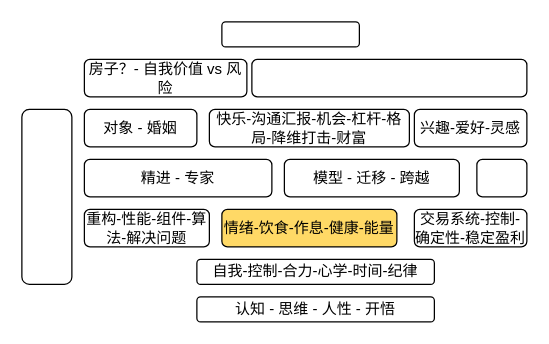
The diagram is 549 pixels wide and 344 high, and some of its shapes have lost their labels. The shapes that lost their labels are listed below. From the top down, each one's centre as x and y in pixels, then its label:
point 290,34: 自由
point 389,77: 趋势 - 自我优势 - 资源 - 复利 - 正循环
point 46,196: 复盘 | 脚本 | 自动化
point 501,177: 规划
